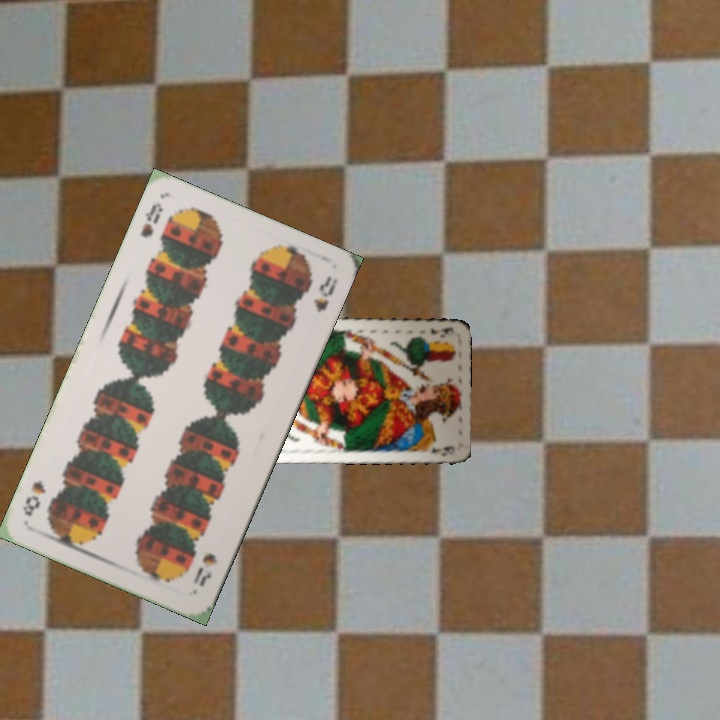EK: (427, 322, 455, 339)
S8: (136, 198, 166, 240), (189, 549, 220, 589)
